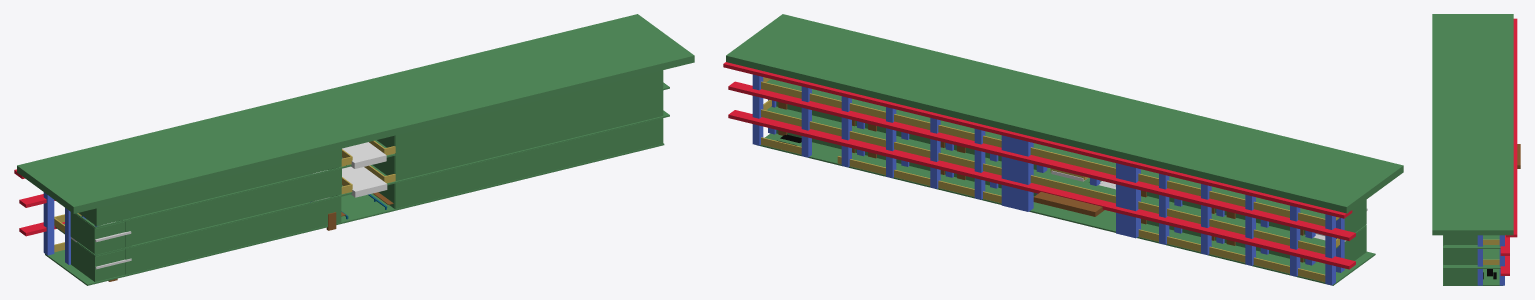
File: building.glb
3 renders of one model, left to right at view 1: azimuth 30°, elevation 25°; view 2: azimuth 150°, elevation 25°; view 3: azimuth 270°, elevation 25°, orthographic. The views are drawn at different scales.
Visible parts, largest first — view 1: Floor 3 - Floor Slab, Floor 1 - Wall vb2sivxo, Ground Floor - Wall my5zwmvb, Floor 2 - Wall ury21uh8, Ground Floor - Wall lr3nnwv1, Floor 1 - Wall b631tg33, Floor 2 - Wall 3acy8fsz, Ground Floor - Floor Slab, Floor 1 - Floor Slab, Floor 1 - Wall 5im86cul, Ground Floor - Wall 8ogb1uk6, Cube (+9 smaller); view 2: Floor 3 - Floor Slab, Floor 3 - Floor Slab.002, Floor 3 - Floor Slab.003, Ground Floor - Floor Slab, Floor 3 - Floor Slab.001, Floor 2 - Wall d6zpbei2, Floor 1 - Wall b7abae2n, Floor 1 - Floor Slab, Floor 2 - Floor Slab, Ground Floor - Column 4fzkcdaa, Ground Floor - Wall kuuxig4u, Ground Floor - Wall 42sbnq6g (+19 smaller); view 3: Floor 3 - Floor Slab, Floor 3 - Floor Slab.001, Floor 1 - Wall y0u1dgaz, Ground Floor - Wall nphhkznj, Floor 1 - Floor Slab, Floor 2 - Wall tt7hd9h9, Ground Floor - Floor Slab, Floor 2 - Floor Slab, Ground Floor - Column 3yxy1729, Ground Floor - Column hysjhqyi, Floor 3 - Floor Slab.002, Floor 3 - Floor Slab.003 (+3 smaller).
Part boxes in pixels (<box>): Floor 3 - Floor Slab: <box>17,14,694,213</box>; Floor 1 - Wall vb2sivxo: <box>395,88,662,180</box>; Ground Floor - Wall my5zwmvb: <box>395,118,662,208</box>; Floor 2 - Wall ury21uh8: <box>395,70,662,153</box>; Ground Floor - Wall lr3nnwv1: <box>125,205,303,274</box>; Floor 1 - Wall b631tg33: <box>125,178,303,246</box>; Floor 2 - Wall 3acy8fsz: <box>132,158,303,217</box>; Ground Floor - Floor Slab: <box>45,143,664,285</box>; Floor 1 - Floor Slab: <box>55,110,669,256</box>; Floor 1 - Wall 5im86cul: <box>303,168,341,203</box>; Ground Floor - Wall 8ogb1uk6: <box>303,196,341,231</box>; Cube: <box>342,166,387,197</box>; Floor 3 - Floor Slab: <box>726,14,1403,213</box>; Floor 3 - Floor Slab.002: <box>728,110,1355,269</box>; Floor 3 - Floor Slab.003: <box>728,81,1355,240</box>; Ground Floor - Floor Slab: <box>757,133,1375,285</box>; Floor 3 - Floor Slab.001: <box>723,62,1352,218</box>; Floor 2 - Wall d6zpbei2: <box>761,81,1325,226</box>; Floor 1 - Wall b7abae2n: <box>761,109,1325,254</box>; Floor 1 - Floor Slab: <box>766,106,1366,248</box>; Floor 2 - Floor Slab: <box>766,79,1337,220</box>; Ground Floor - Column 4fzkcdaa: <box>1116,163,1140,238</box>; Ground Floor - Wall kuuxig4u: <box>1138,229,1325,282</box>; Ground Floor - Wall 42sbnq6g: <box>837,156,1001,203</box>; Floor 3 - Floor Slab: <box>1432,14,1513,235</box>; Floor 3 - Floor Slab.001: <box>1506,18,1517,237</box>; Floor 1 - Wall y0u1dgaz: <box>1443,249,1477,264</box>; Ground Floor - Wall nphhkznj: <box>1443,269,1477,284</box>; Floor 1 - Floor Slab: <box>1443,249,1500,268</box>; Floor 2 - Wall tt7hd9h9: <box>1443,235,1477,244</box>; Ground Floor - Floor Slab: <box>1443,235,1502,285</box>; Floor 2 - Floor Slab: <box>1443,235,1500,248</box>; Ground Floor - Column 3yxy1729: <box>1477,235,1482,285</box>; Ground Floor - Column hysjhqyi: <box>1499,235,1504,285</box>; Floor 3 - Floor Slab.002: <box>1500,256,1509,275</box>; Floor 3 - Floor Slab.003: <box>1500,235,1509,255</box>.
Bounding box in the file's own units: 69.94 × 9.98 × 12.05.
